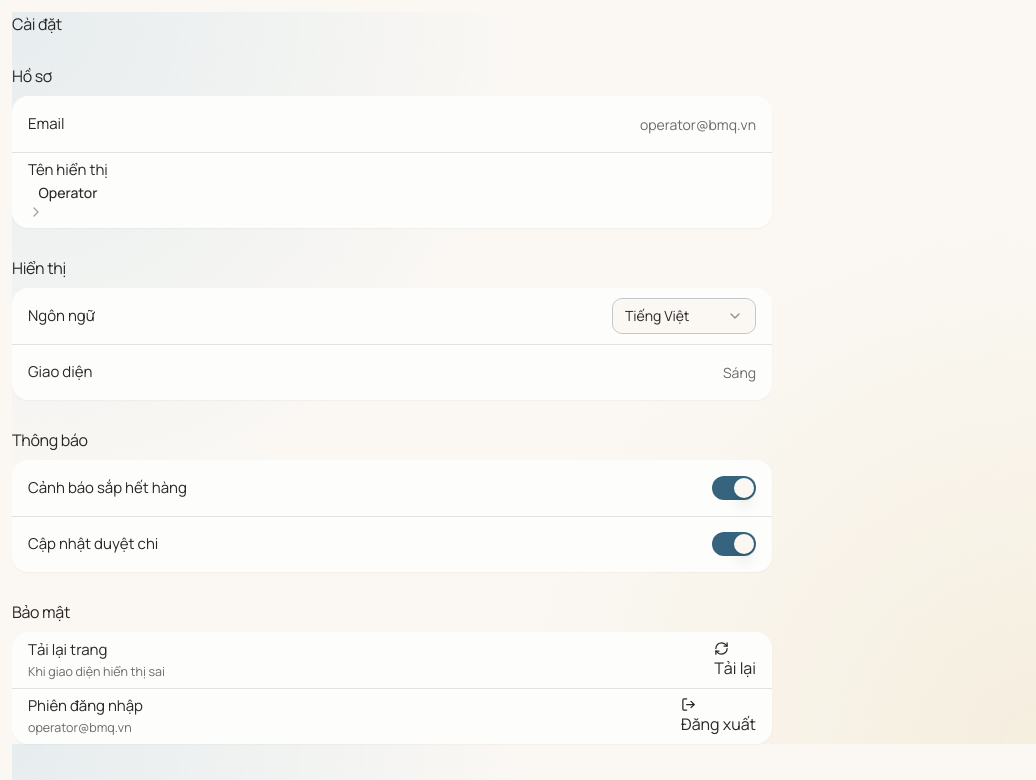
Scenario: synthetic Chrome Translate DOM replacement resilience › Settings language select opens and updates real language state on desktop
Click the dropdown labelled "Tiếng Việt": (684, 316) top-left (612, 298), bottom-right (756, 334)
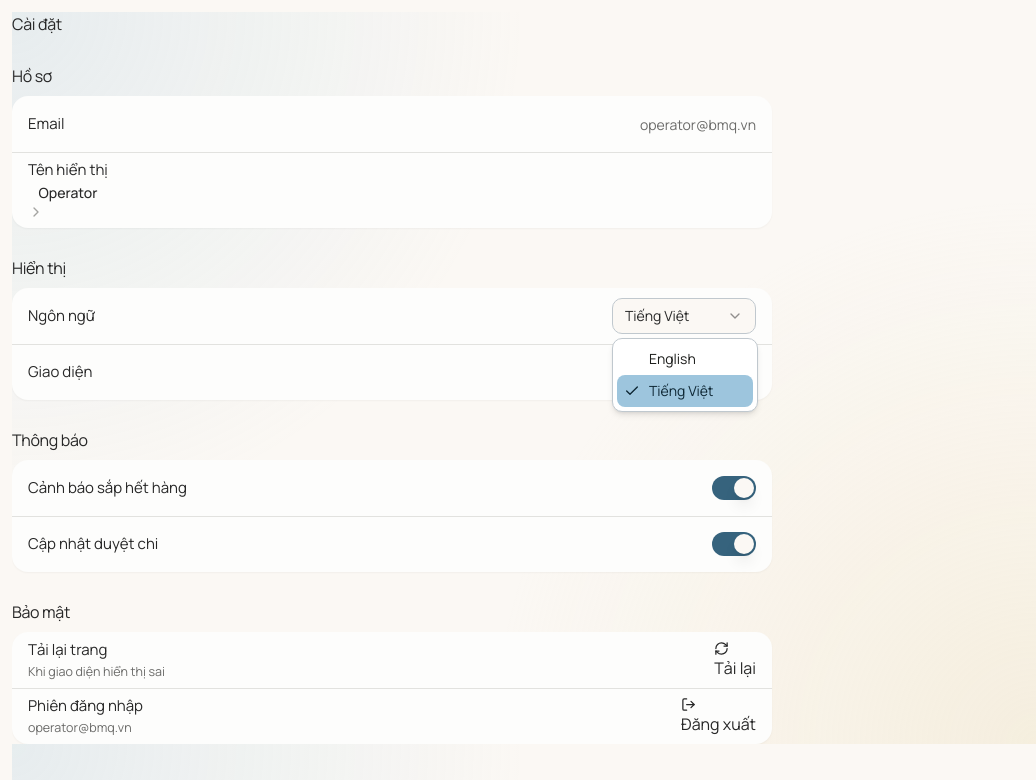
Result: the list is shown at top-left (612, 338), bottom-right (758, 412)
Result: the text "English" is shown
Click the option "English": (672, 358) top-left (649, 349), bottom-right (696, 368)
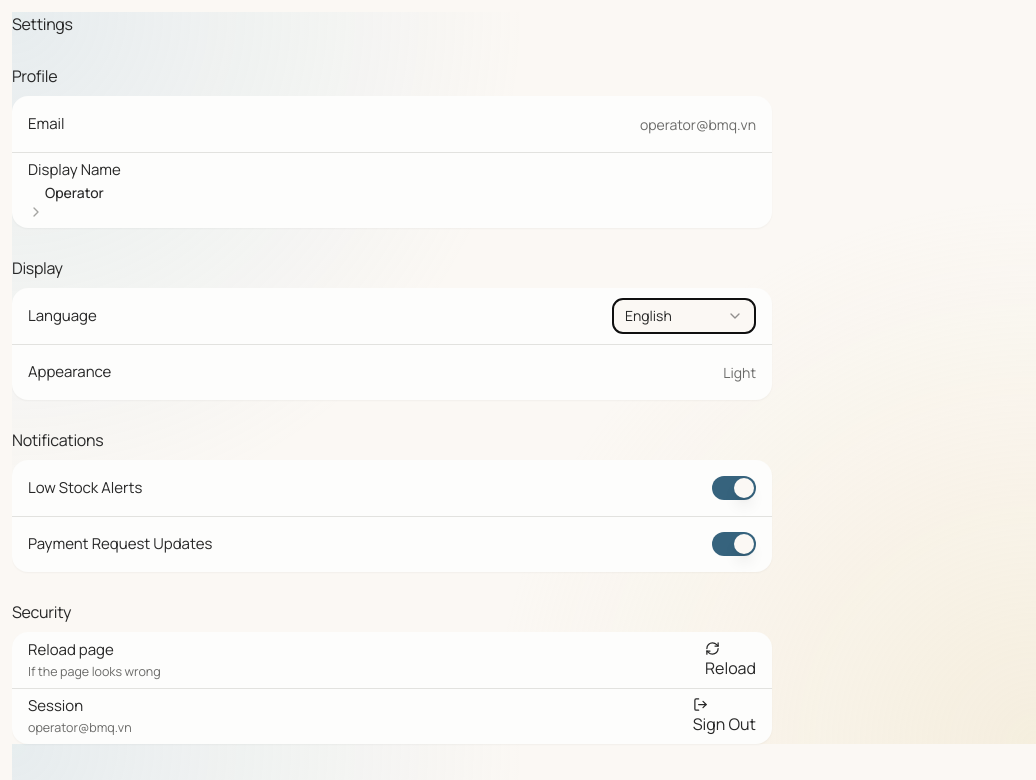
Result: the dropdown labelled "English" is shown
Result: the text "Settings" is shown at top-left (12, 13), bottom-right (73, 35)
Click the dropdown labelled "English": (684, 316) top-left (612, 298), bottom-right (756, 334)
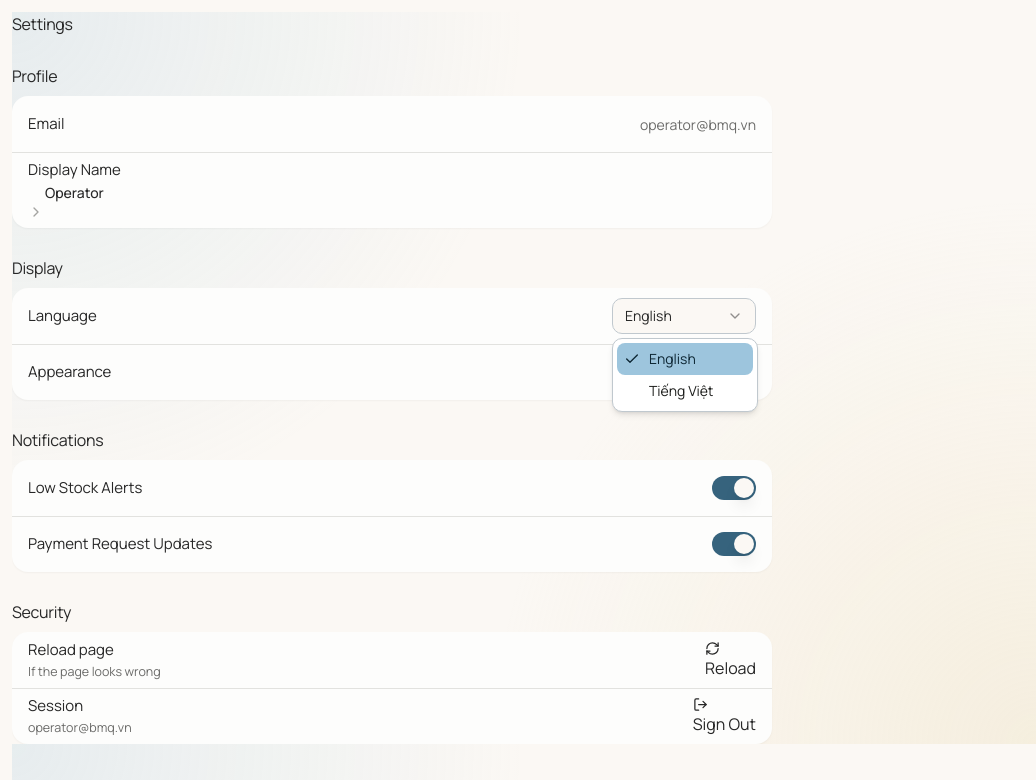
Result: the list is shown at top-left (612, 338), bottom-right (758, 412)
Click the option "Tiếng Việt": (681, 390) top-left (649, 381), bottom-right (713, 400)
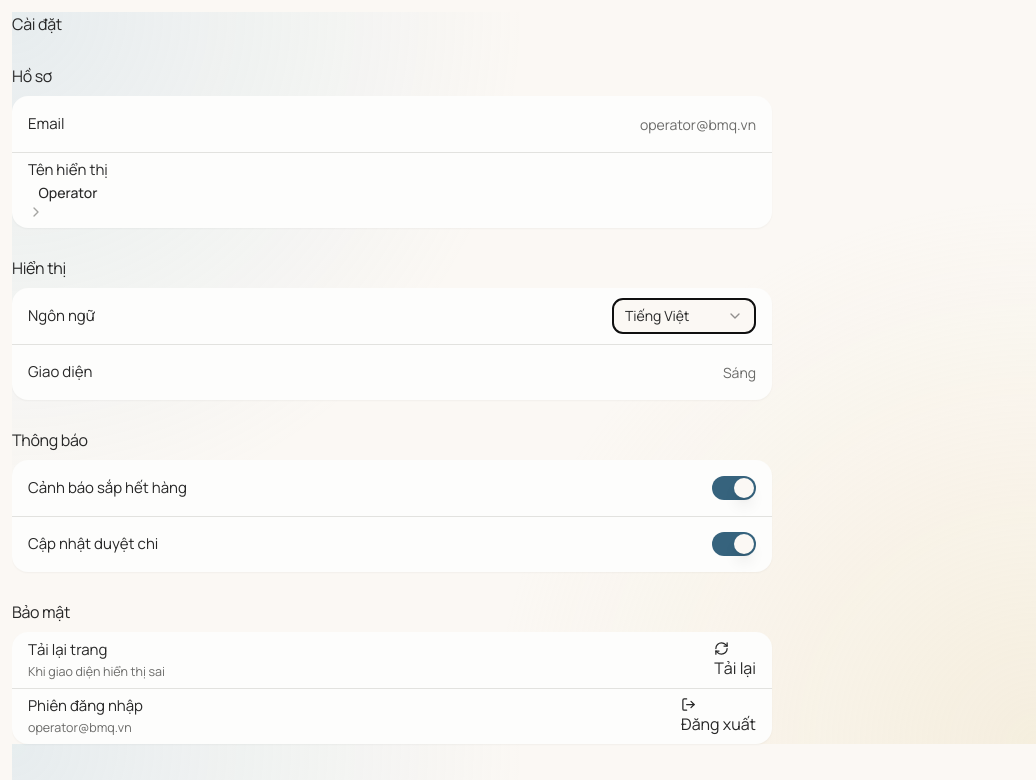
Result: the dropdown labelled "Tiếng Việt" is shown at top-left (612, 298), bottom-right (756, 334)
Result: the text "Cài đặt" is shown at top-left (12, 13), bottom-right (62, 35)
